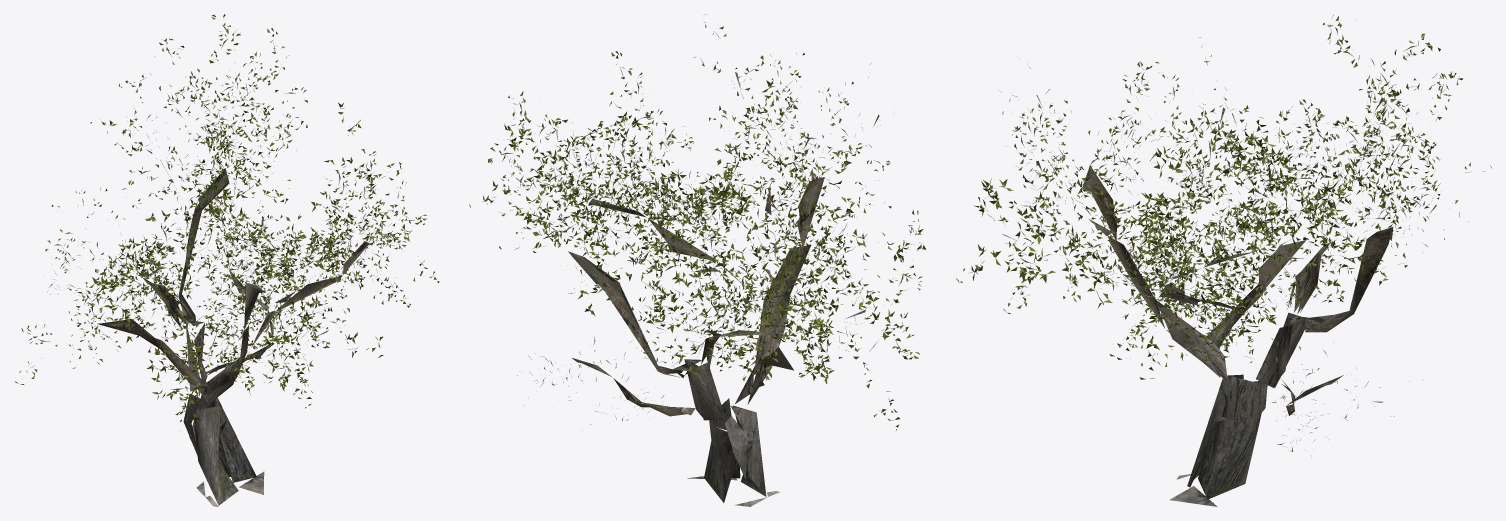
Rendered from island_tree_01_lod1.gltf.
3 views of the same model, side by side, from view 1: azimuth 30°, elevation 25°; view 2: azimuth 150°, elevation 25°; view 3: azimuth 270°, elevation 25° (orthographic). The views are drawn at different scales.
Parts seen in each view (by area): view 1: island_tree_01_lod1; view 2: island_tree_01_lod1; view 3: island_tree_01_lod1.
Boxes of the visible parts, box(x1,y1,x2,y2) form: island_tree_01_lod1: box(15, 14, 439, 506); island_tree_01_lod1: box(469, 14, 926, 506); island_tree_01_lod1: box(956, 15, 1491, 506).
Bounding box in the file's own units: 4.64 × 5.01 × 4.75.
3 materials, 3 textured.
